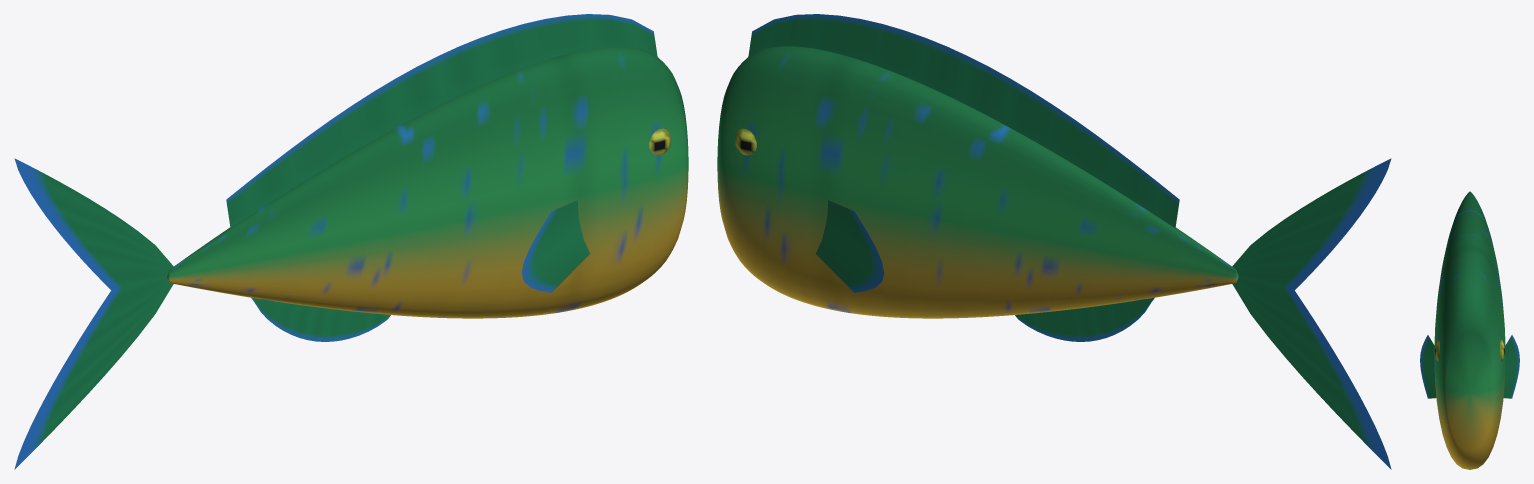
File: lambuka.glb
3 renders of one model, left to right at view 1: azimuth 30°, elevation 25°; view 2: azimuth 150°, elevation 25°; view 3: azimuth 270°, elevation 25°, orthographic. The views are drawn at different scales.
Visible parts, largest first — view 1: lambuka_govde, lambuka_sirt, lambuka_kuyruk, lambuka_gogusL, lambuka_anal_a; view 2: lambuka_govde, lambuka_sirt, lambuka_kuyruk, lambuka_gogusR, lambuka_anal_a; view 3: lambuka_govde, lambuka_gogusL, lambuka_gogusR.
Boxes of the visible parts, bbox=[...] form: lambuka_govde: bbox=[167, 46, 688, 318]; lambuka_sirt: bbox=[226, 14, 657, 228]; lambuka_kuyruk: bbox=[14, 158, 173, 469]; lambuka_gogusL: bbox=[521, 200, 589, 292]; lambuka_anal_a: bbox=[251, 297, 390, 341]; lambuka_govde: bbox=[717, 46, 1238, 318]; lambuka_sirt: bbox=[748, 14, 1179, 228]; lambuka_kuyruk: bbox=[1232, 158, 1391, 469]; lambuka_gogusR: bbox=[816, 200, 884, 292]; lambuka_anal_a: bbox=[1015, 297, 1154, 341]; lambuka_govde: bbox=[1434, 191, 1505, 469]; lambuka_gogusL: bbox=[1420, 335, 1436, 398]; lambuka_gogusR: bbox=[1503, 335, 1519, 398].
Bounding box in the file's own units: 1.08 × 0.4953 × 0.1772.
